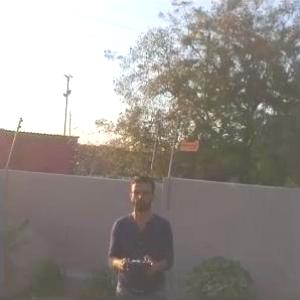follow: (106, 167, 185, 299)
